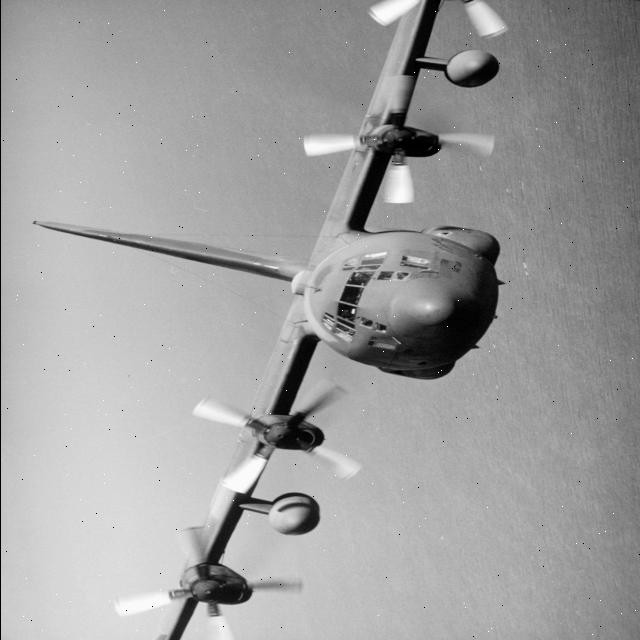C130: (9, 0, 575, 638)
